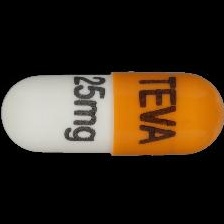68788-9880: (0, 0, 224, 224)
